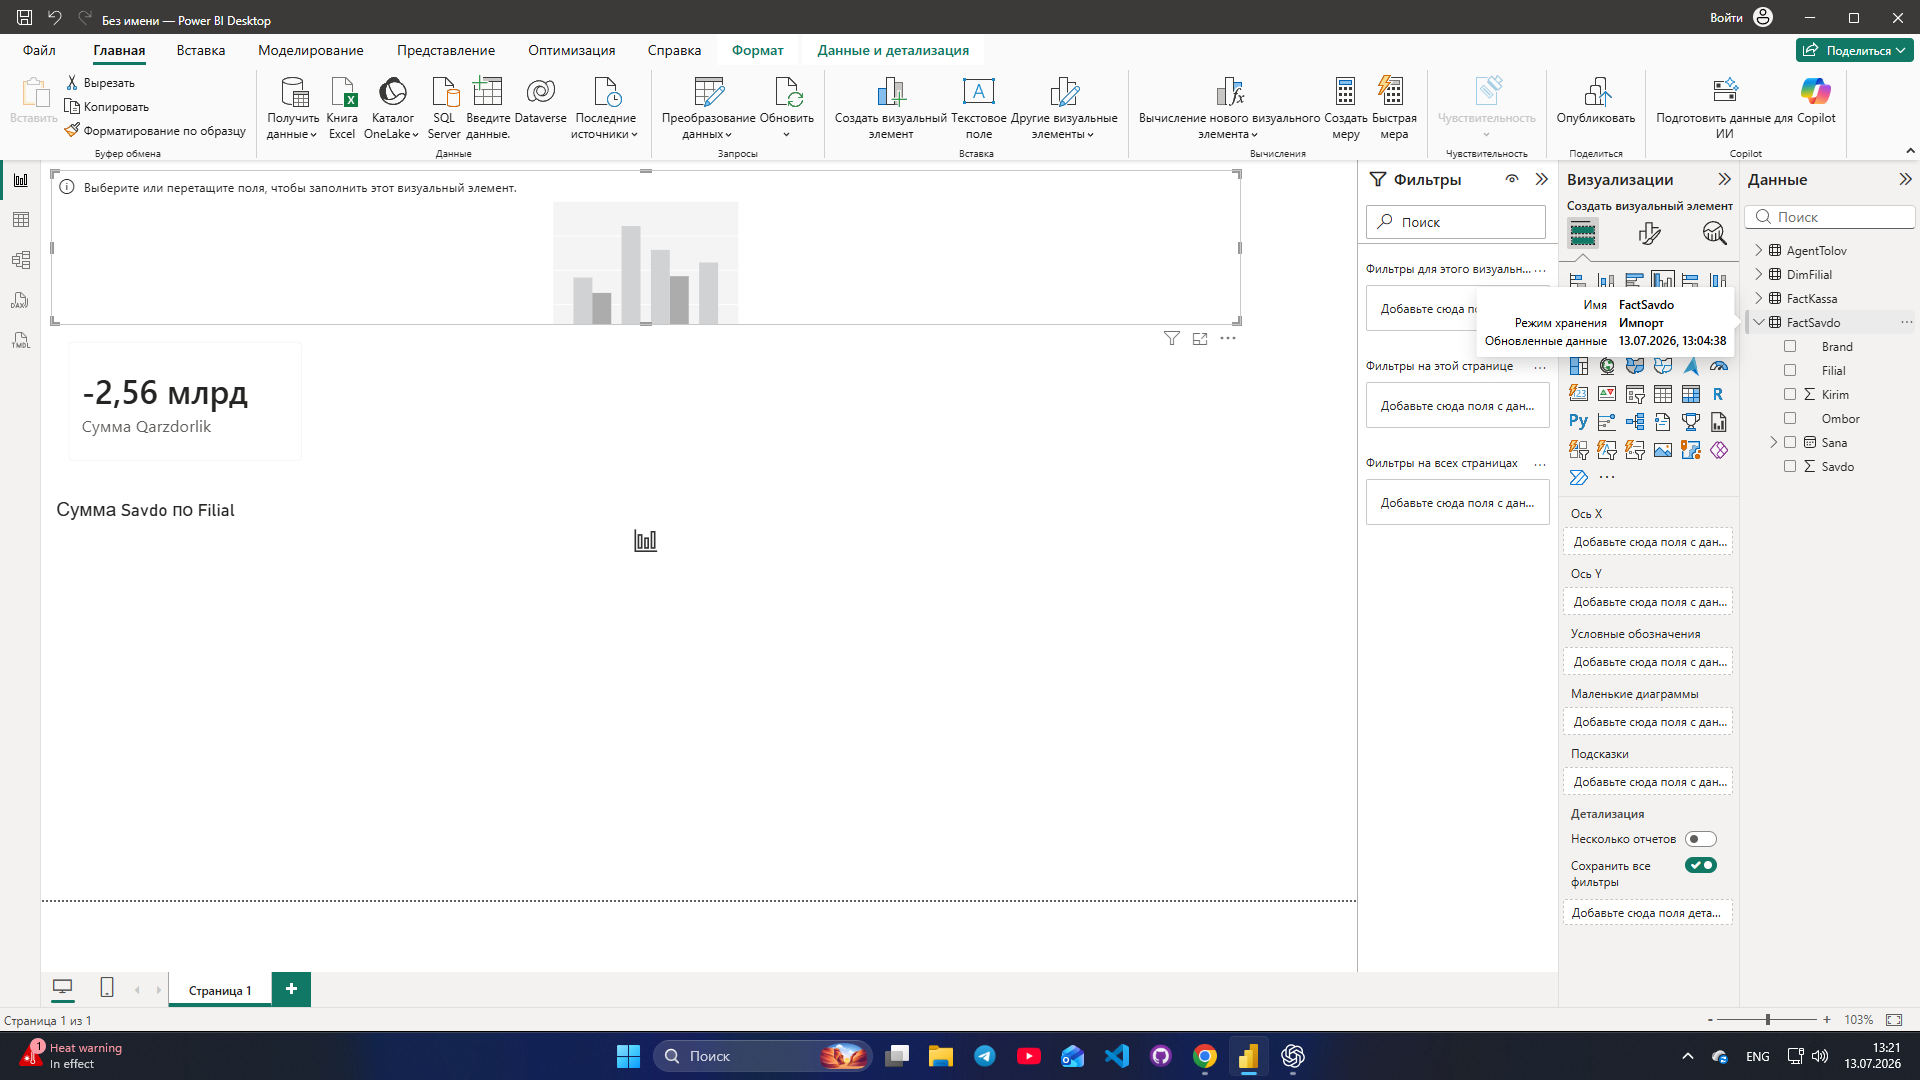

The dashboard page shown, as its layout file describes it:
{"tool":"powerbi","page":{"name":"Страница 1","canvas":[1280,720],"ordinal":0},"visuals":[{"type":"cardVisual","fields":{"Data":["Sum(FactSavdo.Savdo)"]},"box":[9.7,0,260.7,125.5],"z":0},{"type":"cardVisual","fields":{"Data":["Sum(FactKassa.Qarzdorlik)"]},"box":[10,159.5,261,150],"z":2},{"type":"clusteredColumnChart","fields":{"Category":["FactSavdo.Filial"],"Y":["Sum(FactSavdo.Savdo)"]},"box":[10,10,1157,150],"z":3}]}

Visuals, with their boxes on the page's 1280x720 design canvas (x1, y1, x2, y2). These are canvas units, not pixel positions in the 1920x1080 screenshot, which may show the page scaled, cropped or inside an application window:
cardVisual - Sum(FactSavdo.Savdo): [x1=10, y1=0, x2=270, y2=126]
cardVisual - Sum(FactKassa.Qarzdorlik): [x1=10, y1=160, x2=271, y2=310]
clusteredColumnChart - FactSavdo.Filial x Sum(FactSavdo.Savdo): [x1=10, y1=10, x2=1167, y2=160]
